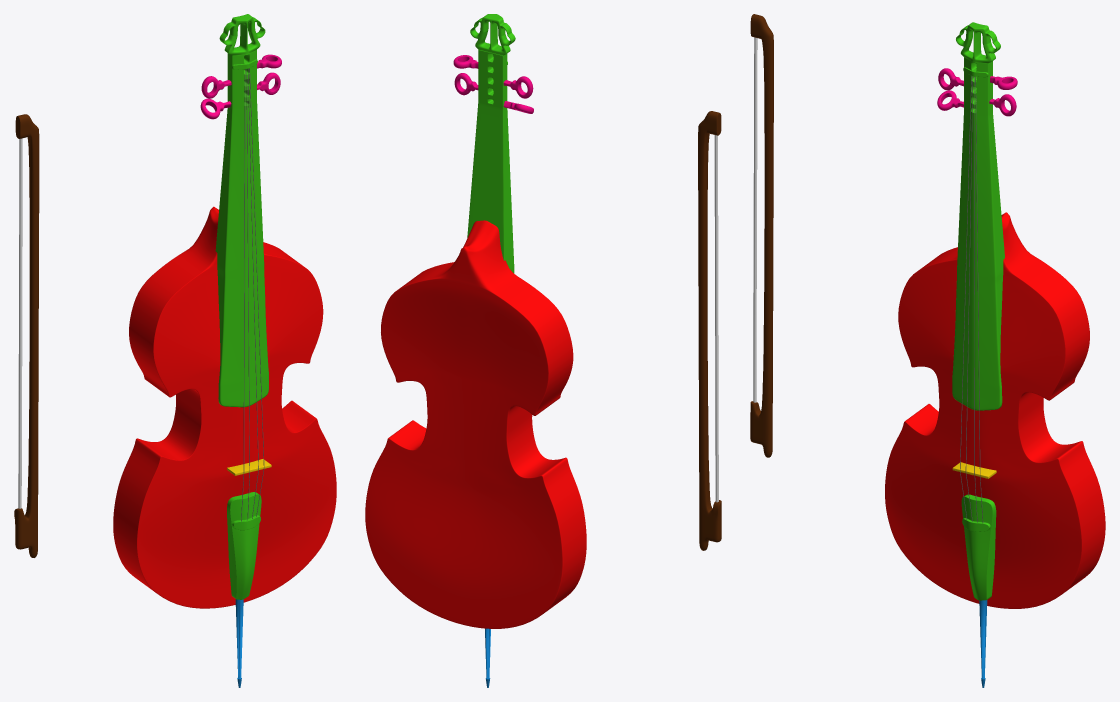
Rendered from violincel.fbx.
3 views of the same model, side by side, from view 1: azimuth 30°, elevation 25°; view 2: azimuth 150°, elevation 25°; view 3: azimuth 330°, elevation 25° (orthographic).
Parts seen in each view (by area): view 1: bout, neck, wooden, wire, hair, endpin; view 2: bout, neck, wooden, hair; view 3: bout, neck, wooden, wire, hair.
Boxes of the visible parts, x1,y1,x2,y2 form: bout: (113, 206, 336, 608); neck: (215, 14, 268, 599); wooden: (14, 114, 39, 557); wire: (241, 68, 264, 521); hair: (18, 138, 22, 508); endpin: (235, 599, 243, 687); bout: (365, 220, 586, 628); neck: (467, 14, 515, 273); wooden: (698, 111, 721, 550); hair: (714, 135, 718, 502); bout: (885, 212, 1105, 608); neck: (952, 22, 1004, 600); wooden: (750, 14, 773, 457); wire: (960, 76, 983, 522); hair: (753, 37, 757, 402).
Size of the model in its own units: 76.03 by 149 by 15.88.
